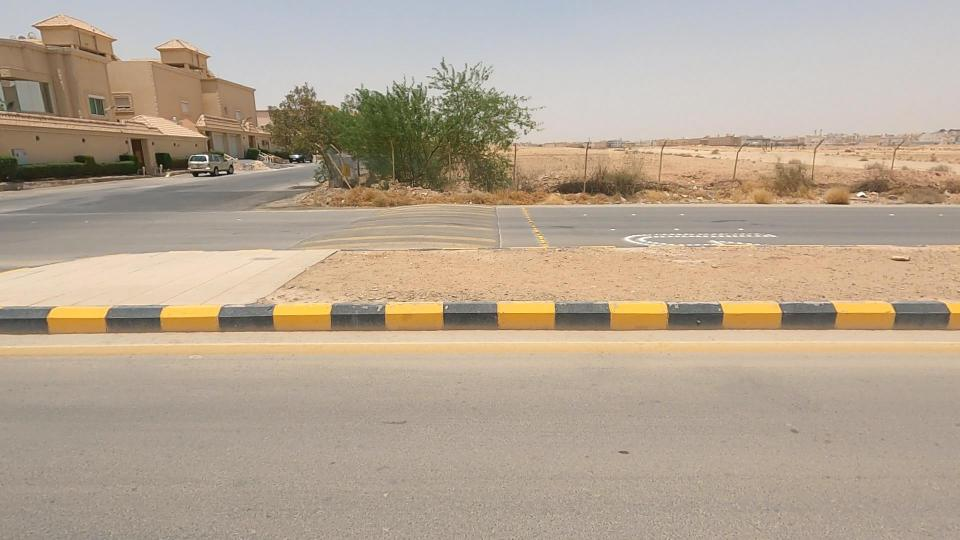CLUTTER_SIDEWALK: (106, 194, 960, 372)
